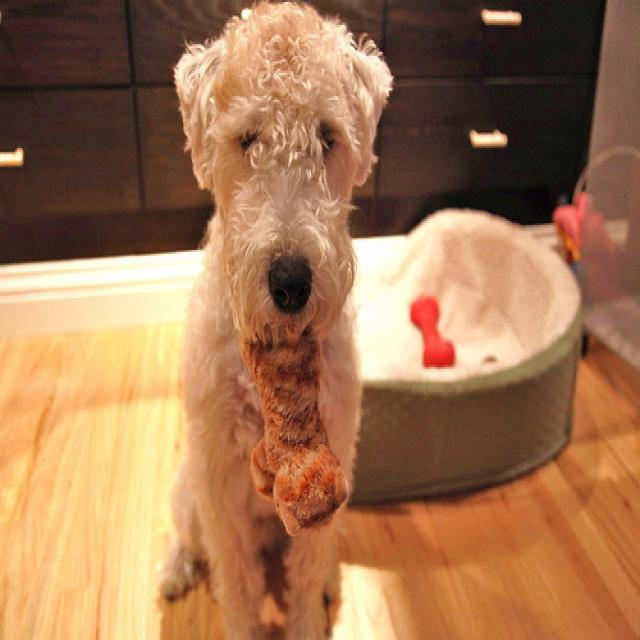dog-wheaten_terrier: (154, 2, 401, 636)
